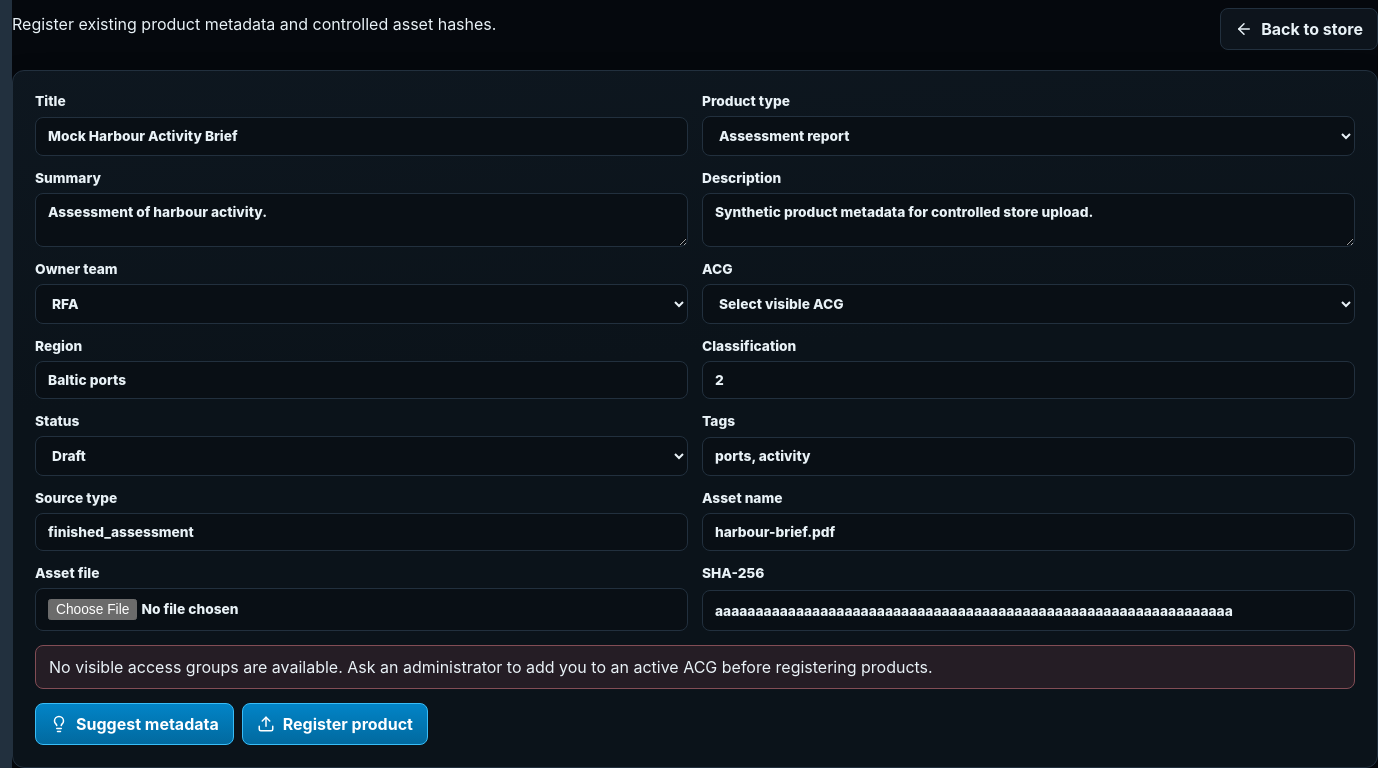
Test: shows a generic error when metadata suggestions fail without a body
This screenshot has width=1378, height=768.
(page scrolled)
Expected: the dropdown labelled "ACG" is shown, top-left (702, 284), bottom-right (1355, 324)
Click the button "Suggest metadata". click: point(134, 724)
box: top-left (35, 703), bottom-right (234, 745)
(page scrolled)
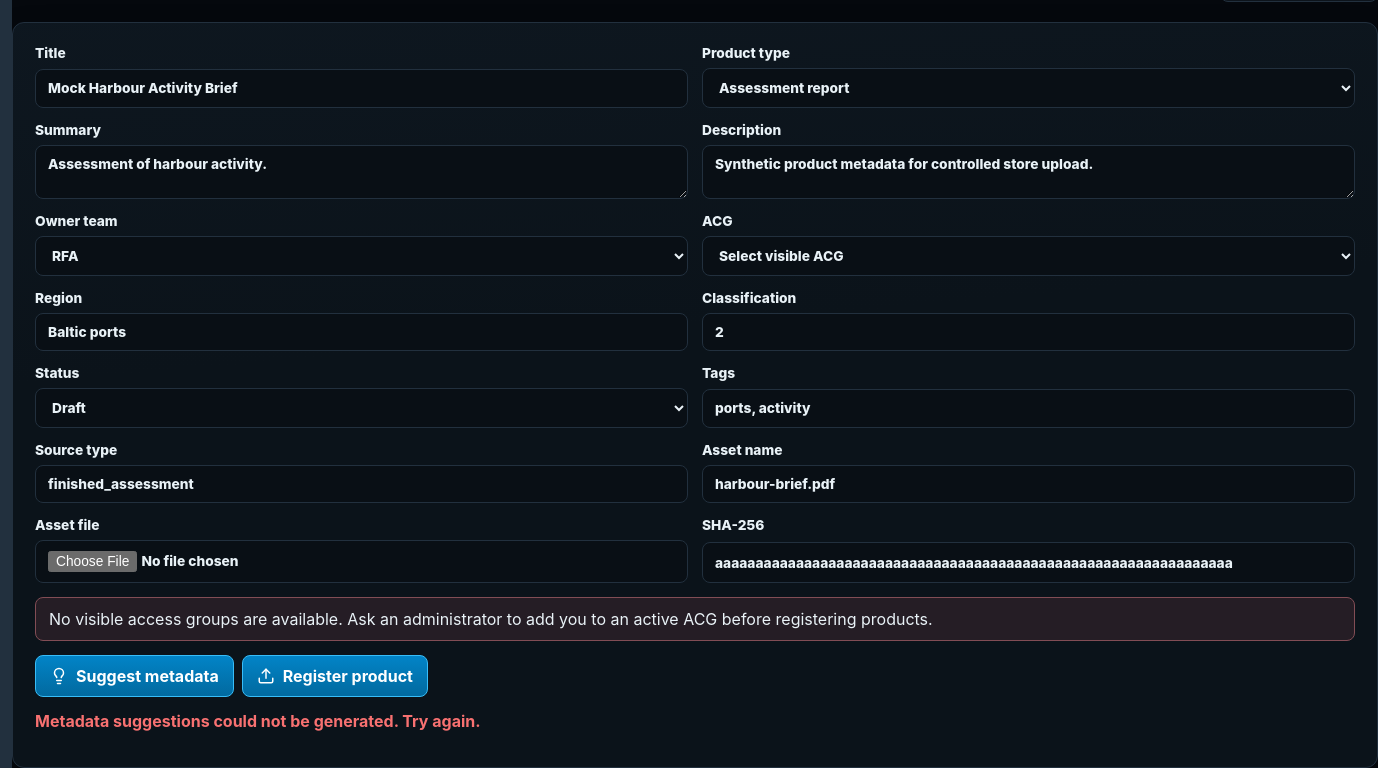
Expected: the text "Metadata suggestions could not be generated. Try again." is shown, top-left (35, 711), bottom-right (481, 731)
